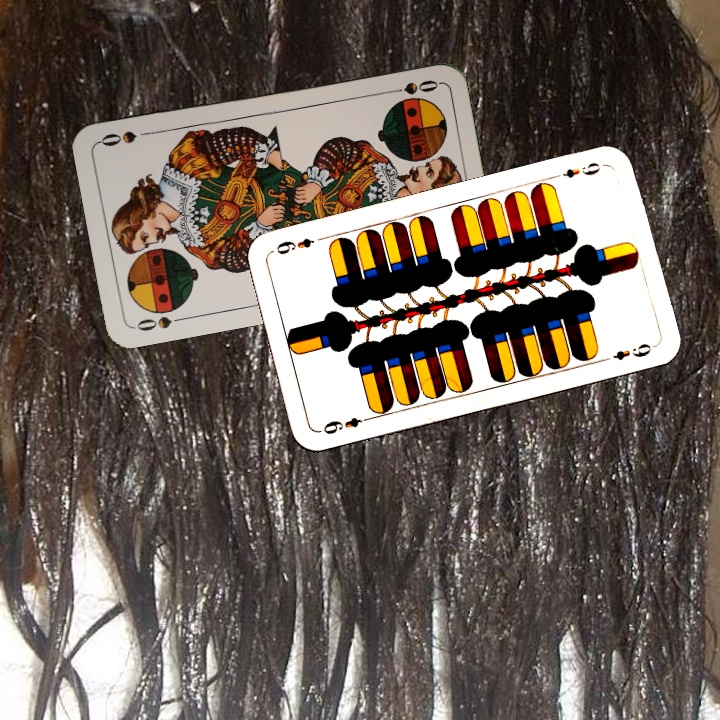E9: (319, 412, 375, 437), (550, 158, 609, 181)
SO: (382, 75, 441, 97), (130, 312, 189, 334)
